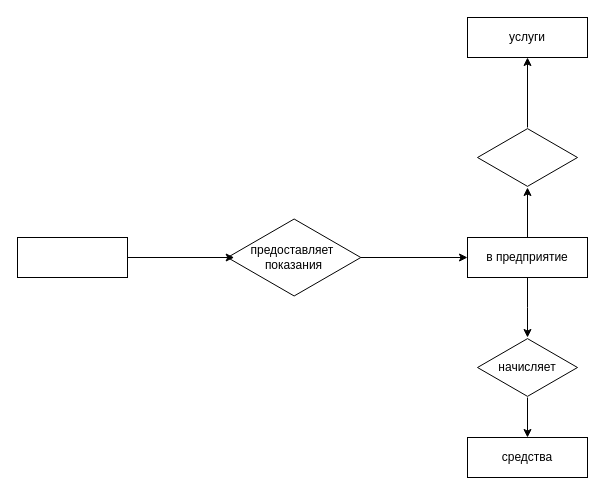
The diagram is 605 pixels wide and 495 high, and some of its shapes have lost their labels. The shapes that lost their labels are listed below. From the top down, each one's centre as x and y in pixels, then its label:
At pixel 527 157: "предоставляет".
At pixel 72 257: "клиент".
